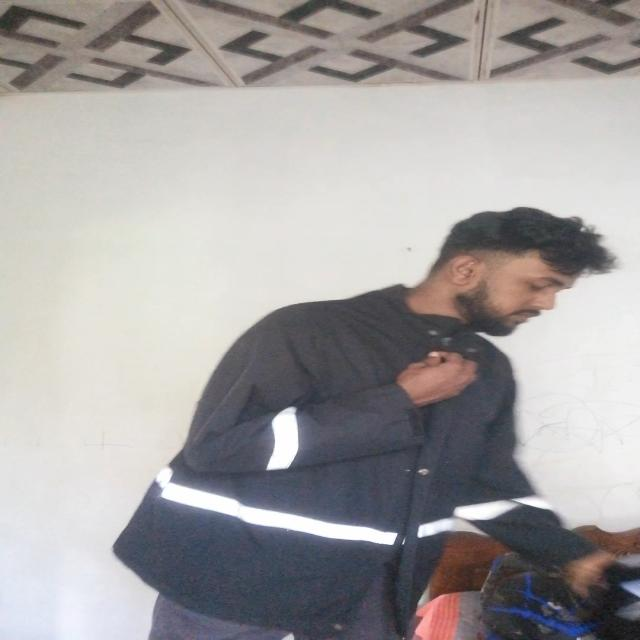Jacket_Wearer: (120, 264, 544, 638)
Person: (112, 196, 640, 640)
